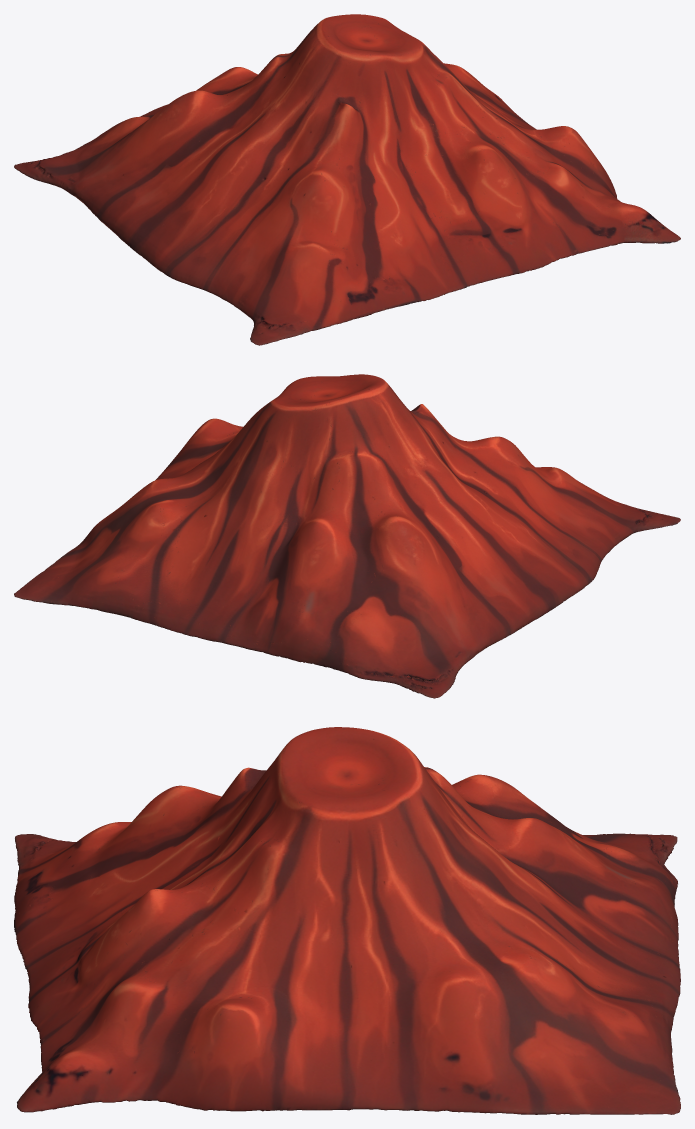
File: Volcanic_mountain.glb
3 views of the same model, one above another, from view 1: azimuth 30°, elevation 25°; view 2: azimuth 150°, elevation 25°; view 3: azimuth 270°, elevation 25° (orthographic). The views are drawn at different scales.
Bounding box in the file's own units: 1.99 × 0.7789 × 2.
Materials: 1 (1 with a texture image).
